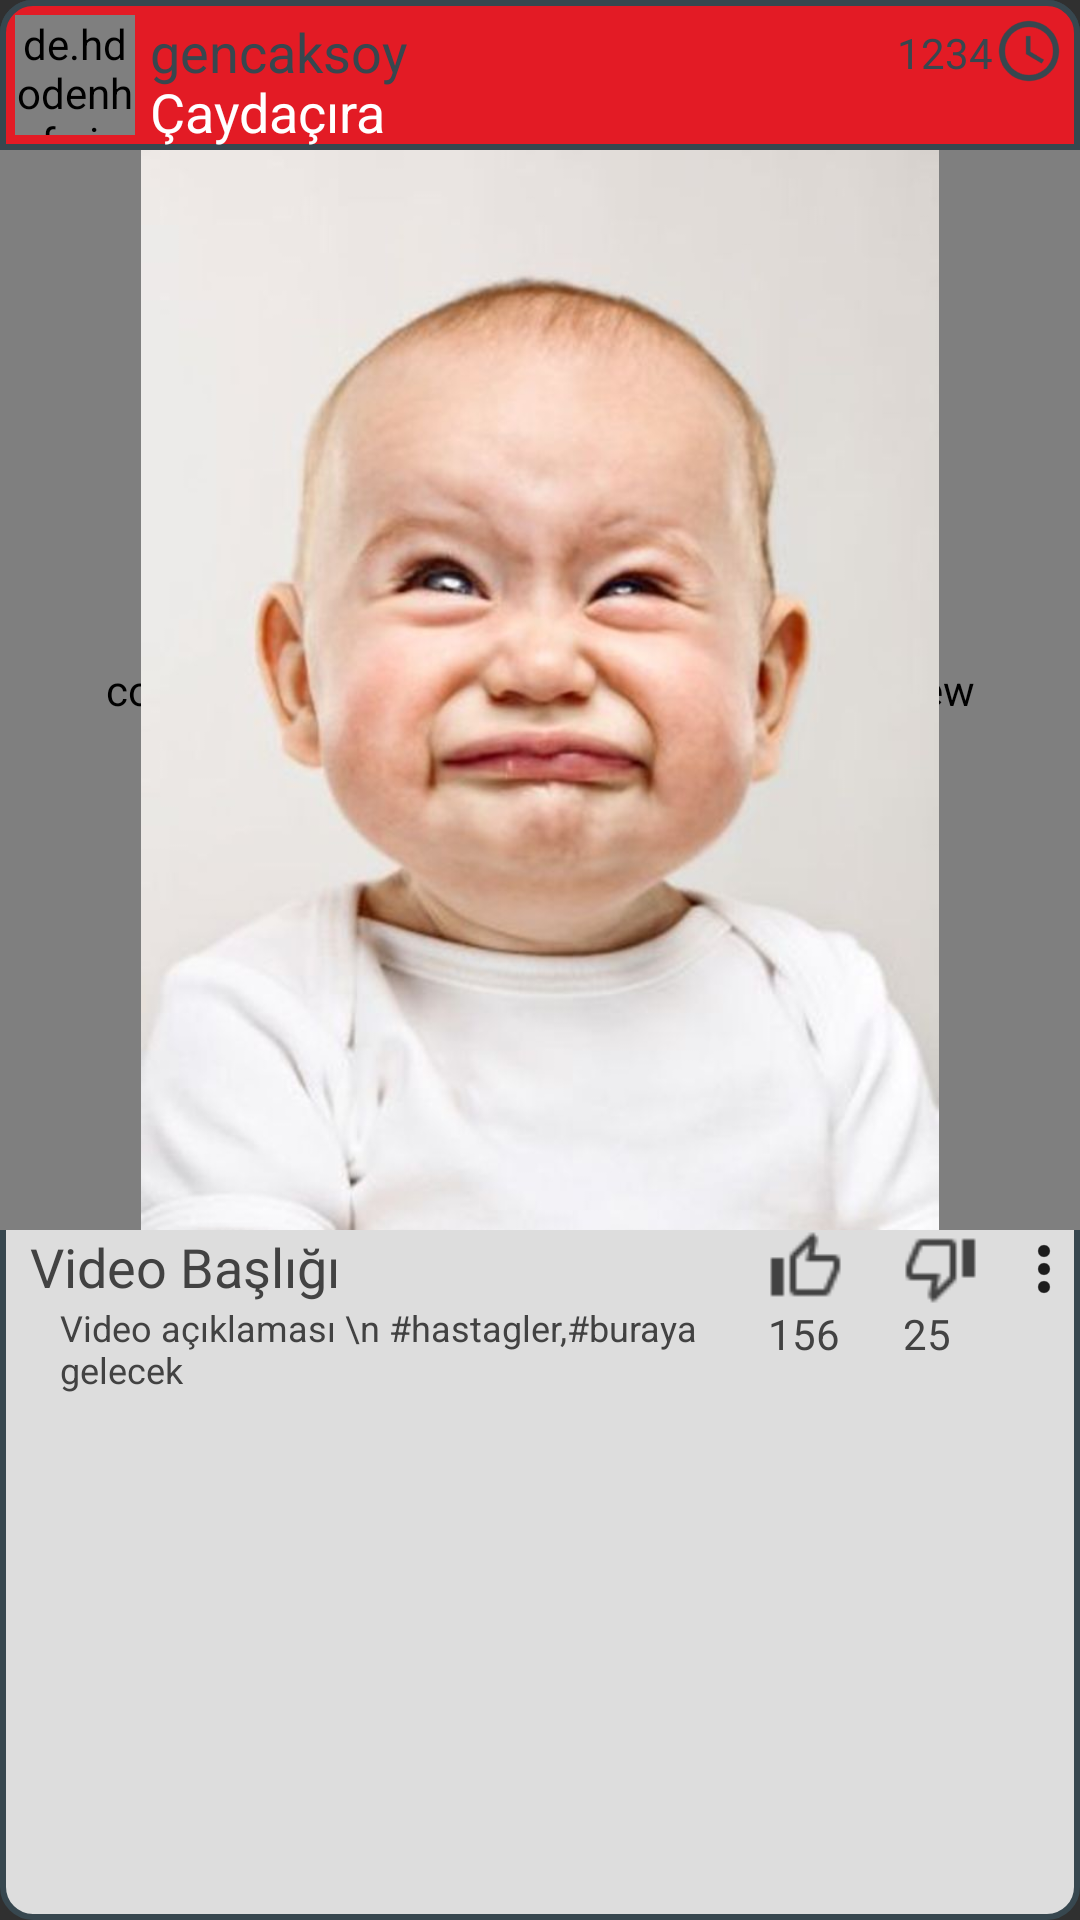

Screen size 1080px×1920px. Icon name, then its box in pixels as (x1, y1, x2, y2):
clock: (999, 21, 1059, 81)
dislike: (905, 1238, 976, 1303)
dots vertical: (1038, 1233, 1080, 1305)
like: (770, 1232, 841, 1297)
